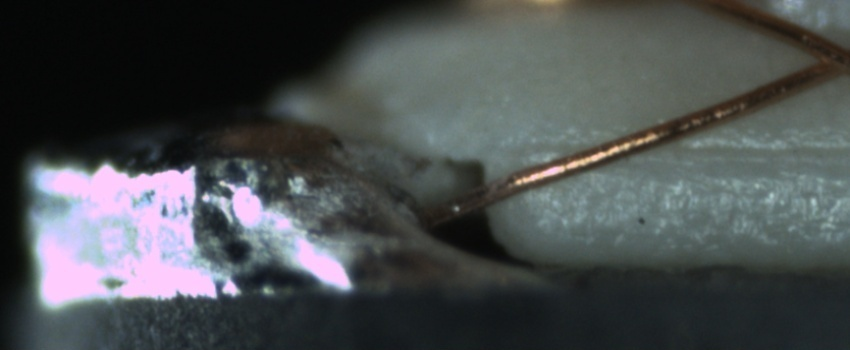CL: (792, 29, 849, 86)
DL: (526, 120, 847, 181)
